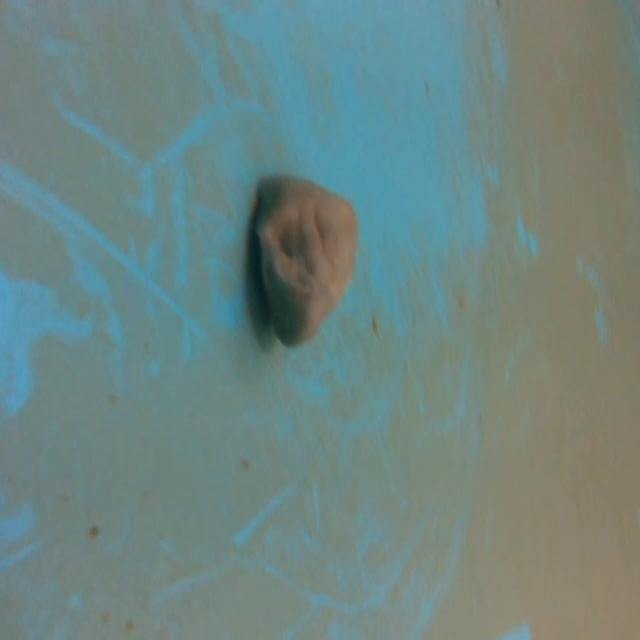rock: (243, 166, 368, 359)
